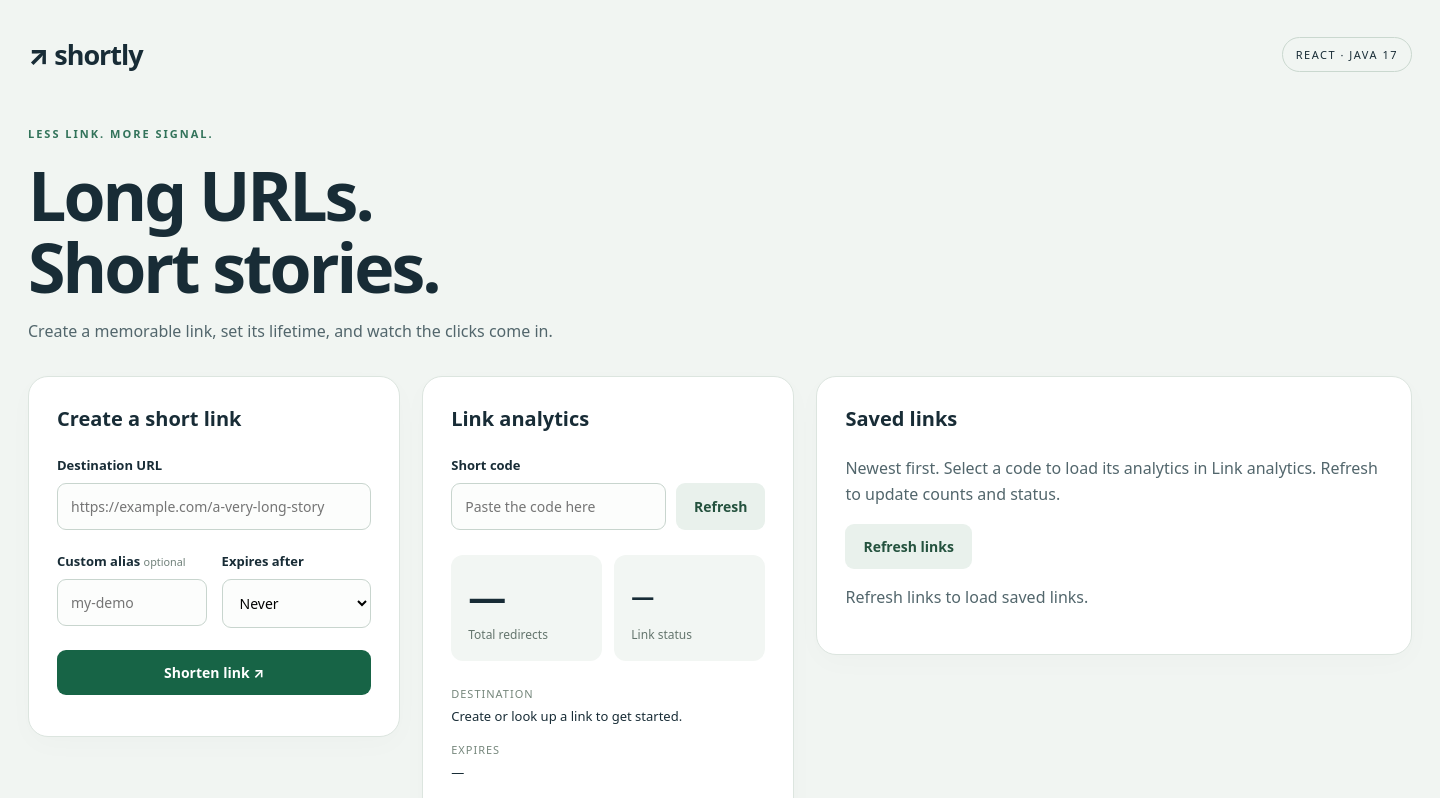
Scenario: React shortener workflows › creates a link with form encoding and populates analytics
Type "https://example.com" into the field labelled "Destination URL". click: (214, 507)
box: [57, 483, 371, 530]
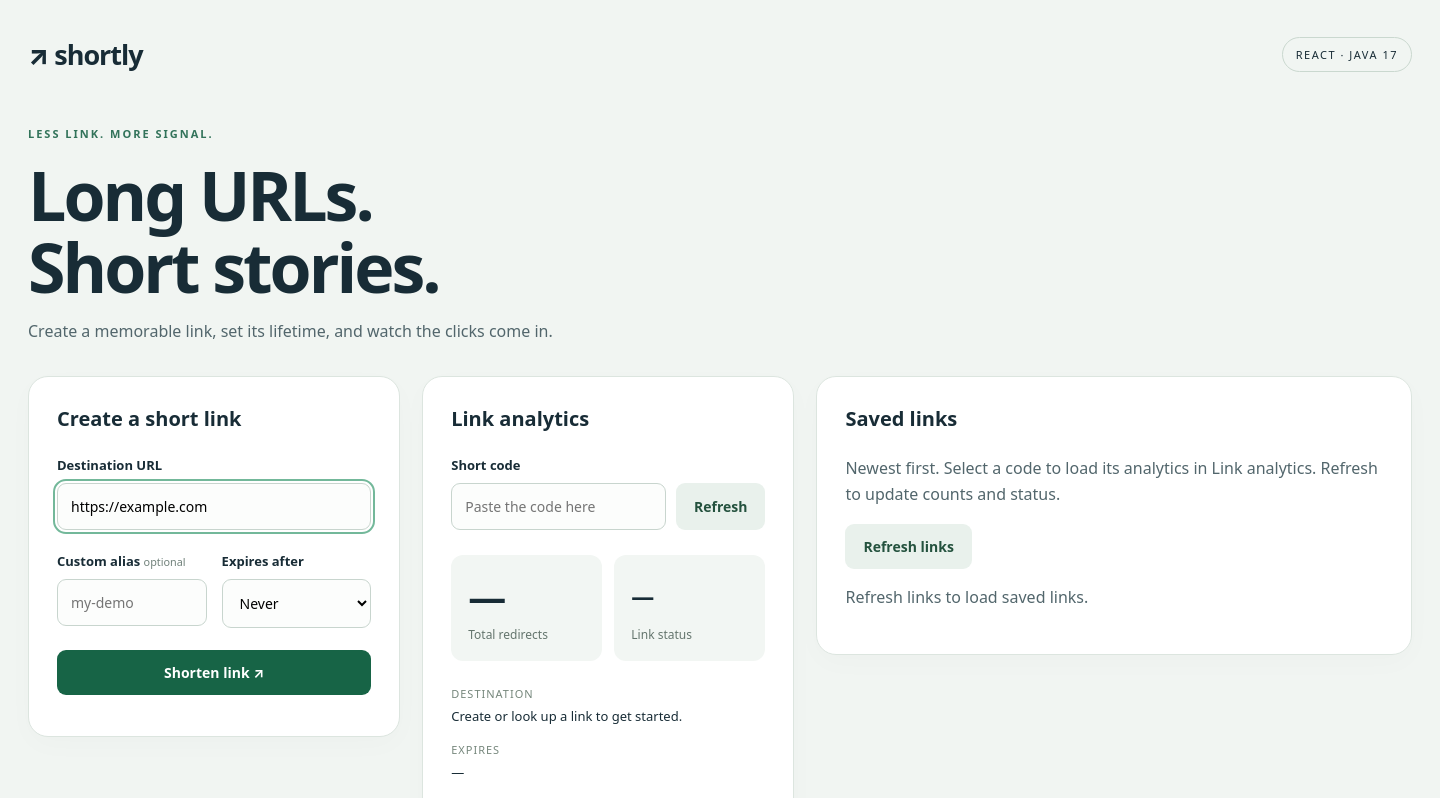
Type "demo" into the field labelled "Custom alias optional". click: (132, 603)
box: [57, 579, 207, 626]
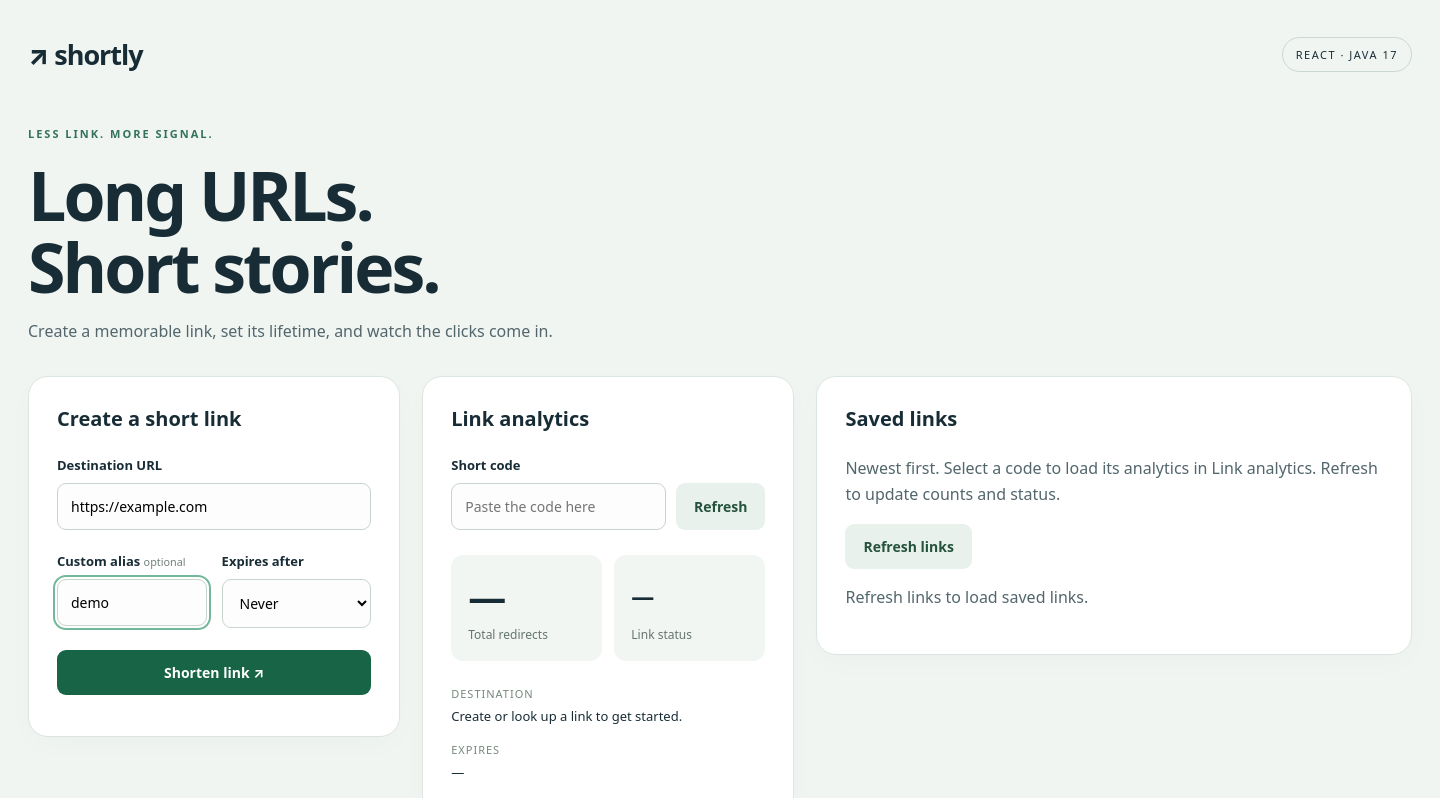
Select "1 hour" in the dropdown labelled "Expires after". click: (296, 604)
box: [222, 579, 371, 628]
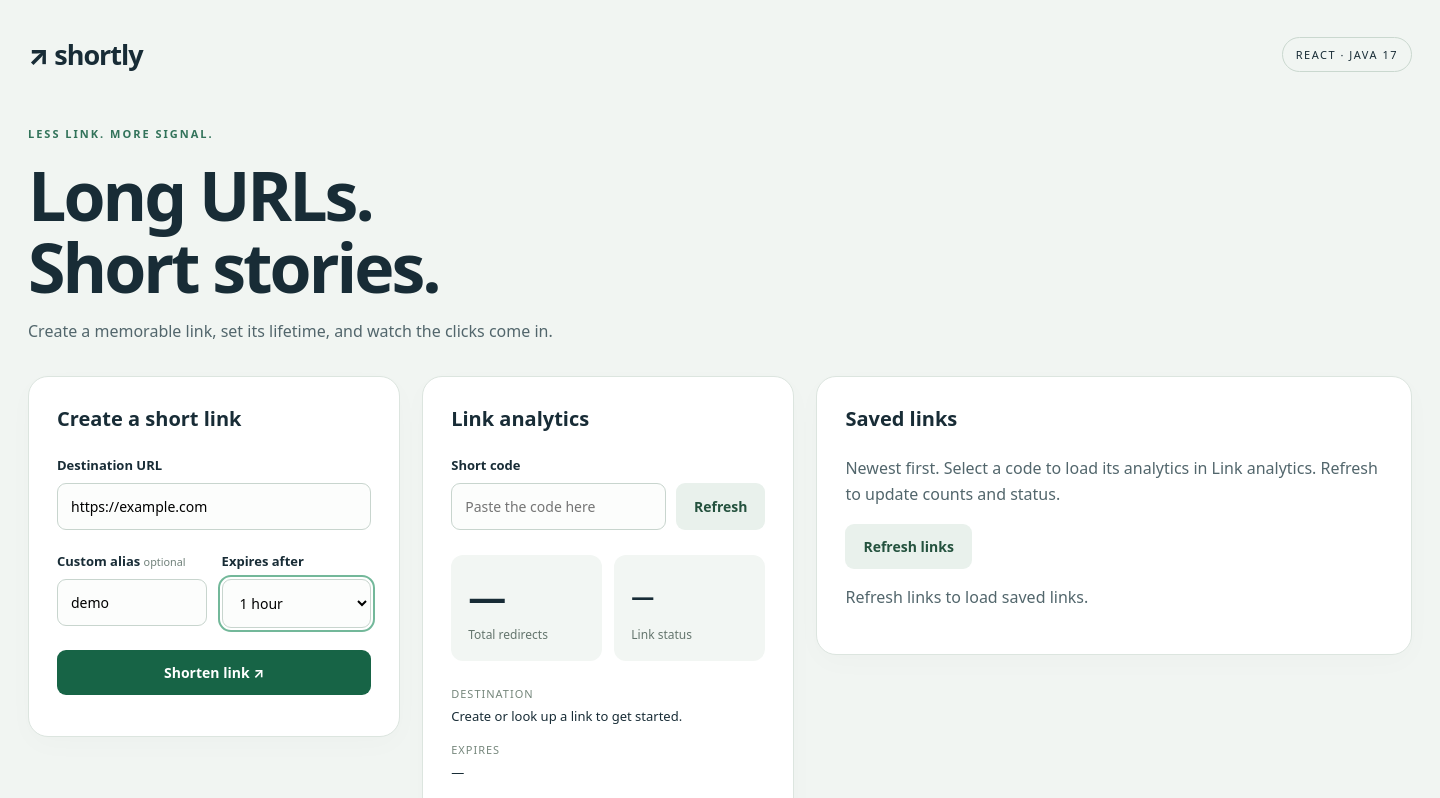
Click the button "Shorten link ↗". click: (214, 673)
box: [57, 650, 371, 695]
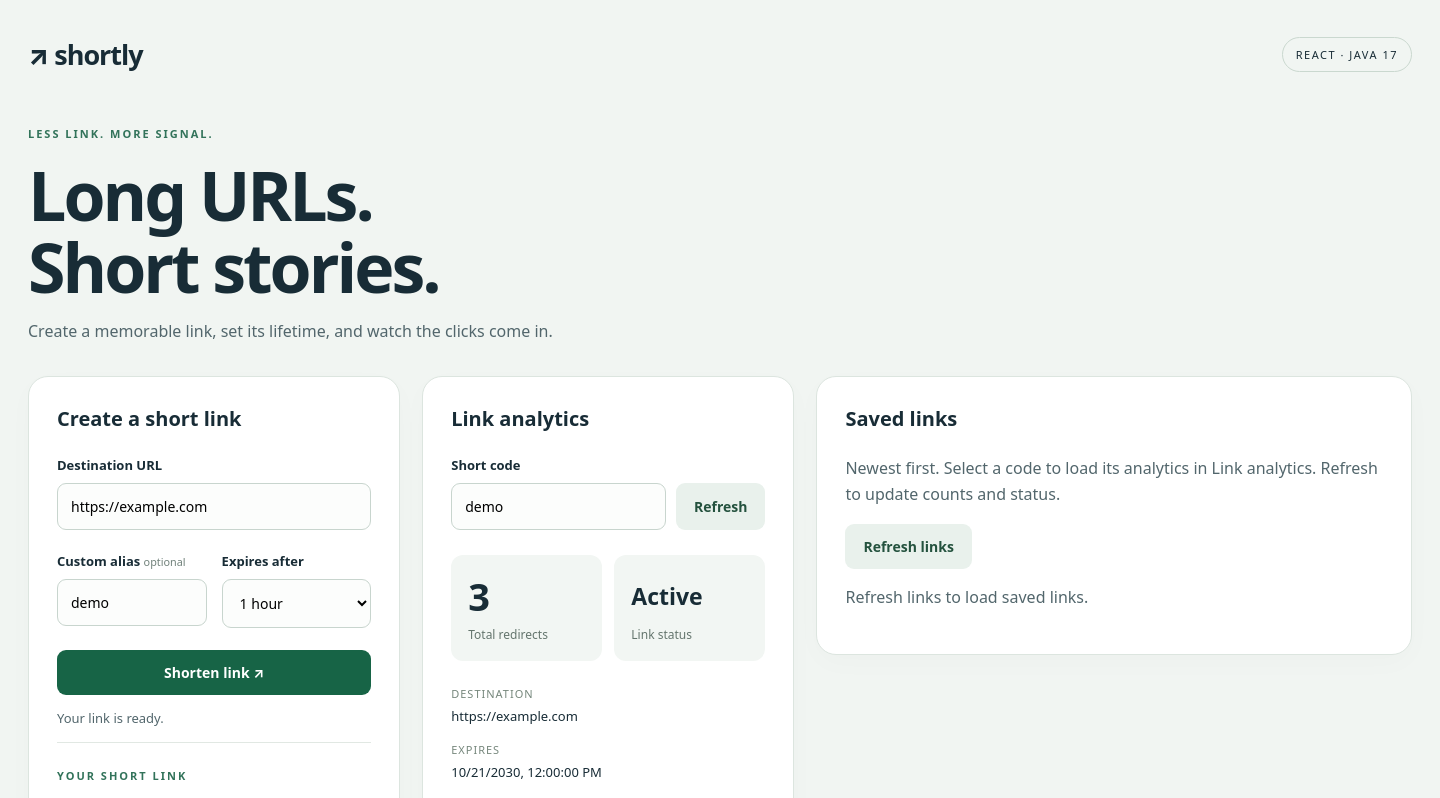
Expected: the field labelled "Short code" holds "demo", [451, 483, 666, 530]
